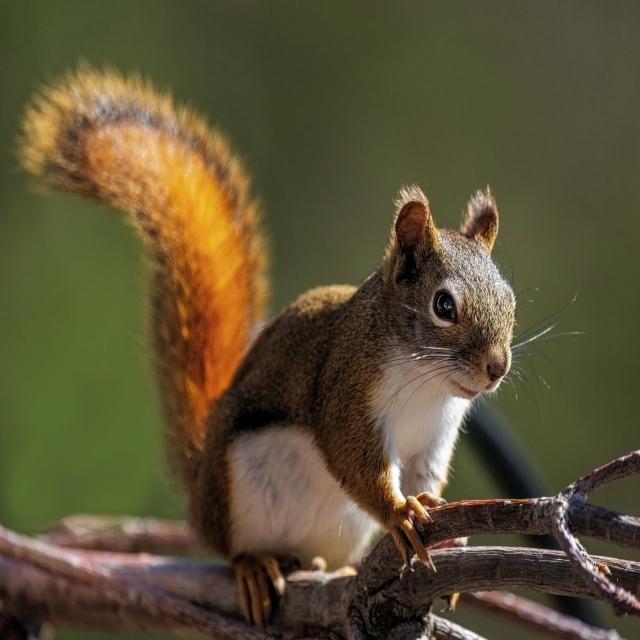squirrel: (18, 66, 586, 625)
